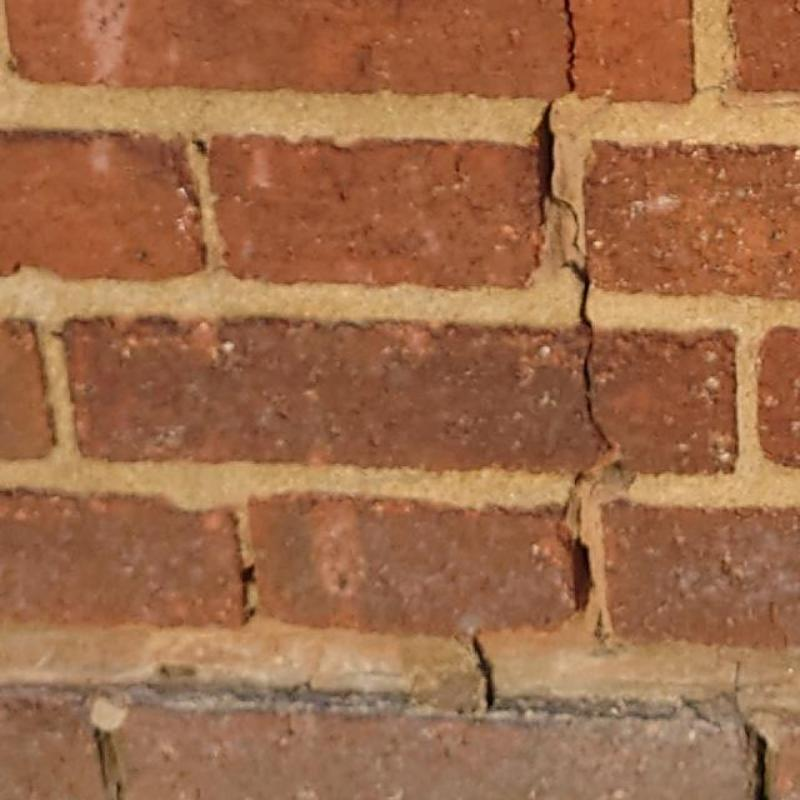crack: (534, 98, 591, 331), (583, 327, 622, 470), (556, 489, 594, 610), (469, 636, 495, 711), (745, 723, 768, 799), (564, 0, 577, 94), (241, 566, 255, 604)
